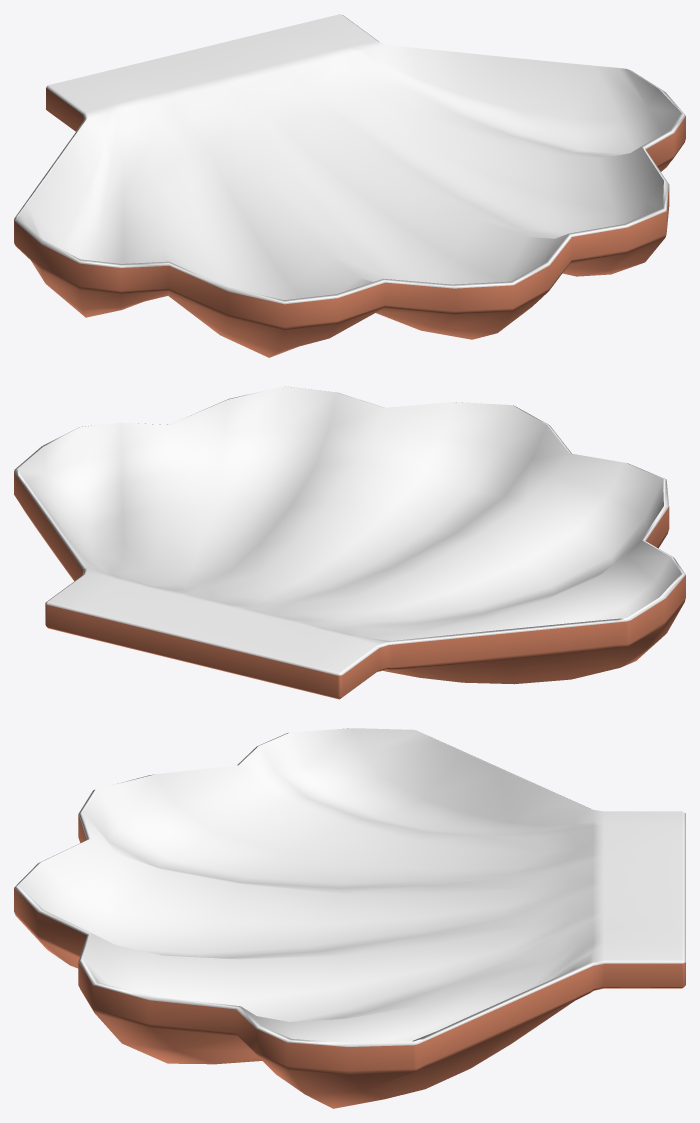
The model's file is Scallops_Empty_2.fbx.
3 renders of one model, top to bottom at view 1: azimuth 30°, elevation 25°; view 2: azimuth 150°, elevation 25°; view 3: azimuth 270°, elevation 25°, orthographic. The views are drawn at different scales.
Visible parts, largest first — view 1: Scallops_Empty_2; view 2: Scallops_Empty_2; view 3: Scallops_Empty_2.
Part boxes in pixels (<box>): Scallops_Empty_2: <box>14,14,685,357</box>; Scallops_Empty_2: <box>14,386,685,699</box>; Scallops_Empty_2: <box>14,728,685,1108</box>.
Size of the model in its own units: 8.08 by 1.18 by 7.2.
